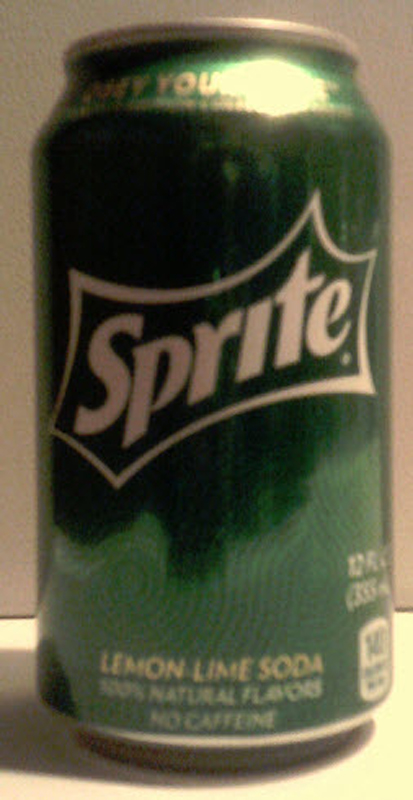sprite: (76, 244, 352, 443)
